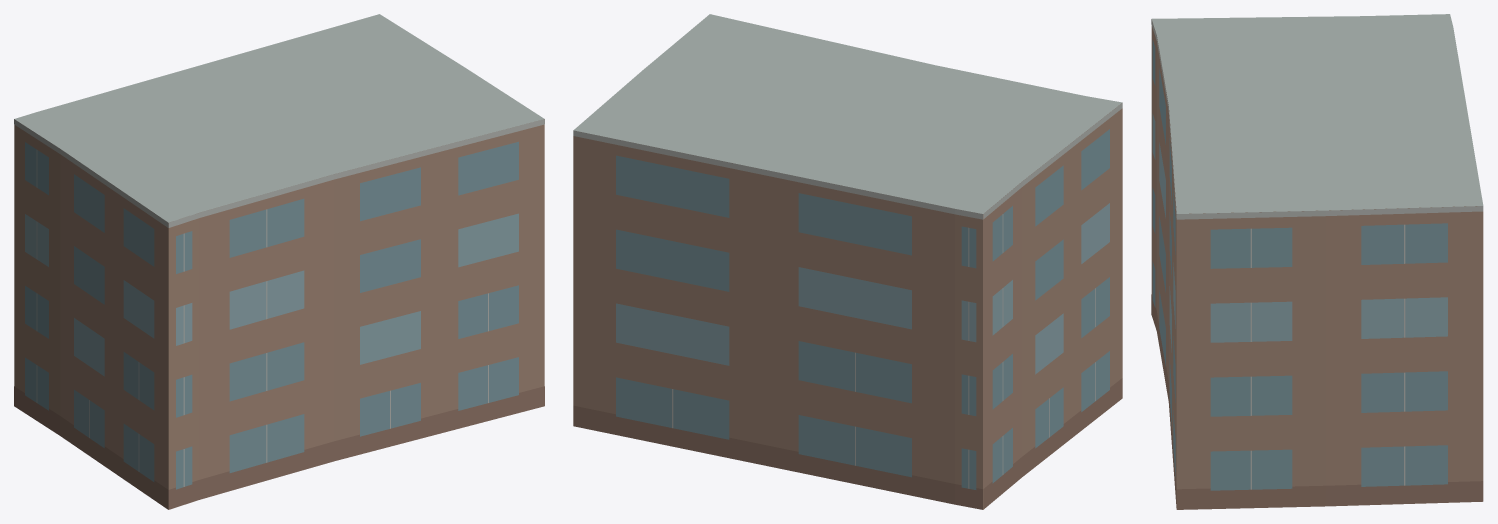
The model's file is survey-upis-32750141.glb.
The picture shows the model from 3 angles, left to right: view 1: azimuth 30°, elevation 25°; view 2: azimuth 150°, elevation 25°; view 3: azimuth 270°, elevation 25°; orthographic projection. The views are drawn at different scales.
Parts seen in each view (by area): view 1: survey-upis-32750141.tmp; view 2: survey-upis-32750141.tmp; view 3: survey-upis-32750141.tmp.
Part boxes in pixels (box(x1,y1,x2,y2)): survey-upis-32750141.tmp: box(14, 14, 544, 509); survey-upis-32750141.tmp: box(573, 14, 1122, 509); survey-upis-32750141.tmp: box(1151, 14, 1483, 509).
Bounding box in the file's own units: 18.72 × 12.9 × 13.13.
